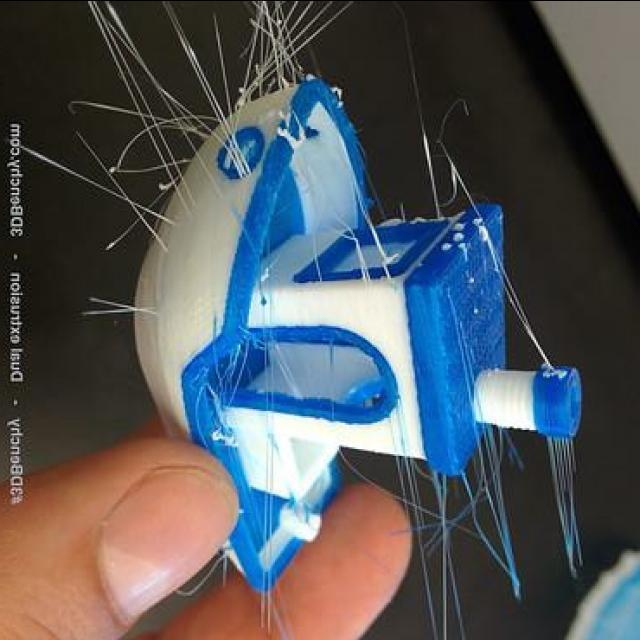stringing: (472, 432, 512, 556), (240, 4, 298, 82), (548, 426, 582, 550), (420, 132, 471, 208), (146, 92, 188, 177), (408, 468, 452, 548), (100, 11, 142, 80), (180, 105, 238, 147), (120, 194, 170, 236), (500, 272, 530, 328), (168, 15, 198, 66), (87, 298, 154, 318), (197, 68, 223, 110), (522, 326, 550, 364)
